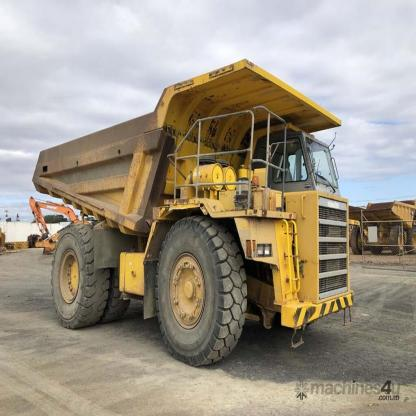dump_truck: (27, 57, 357, 368)
